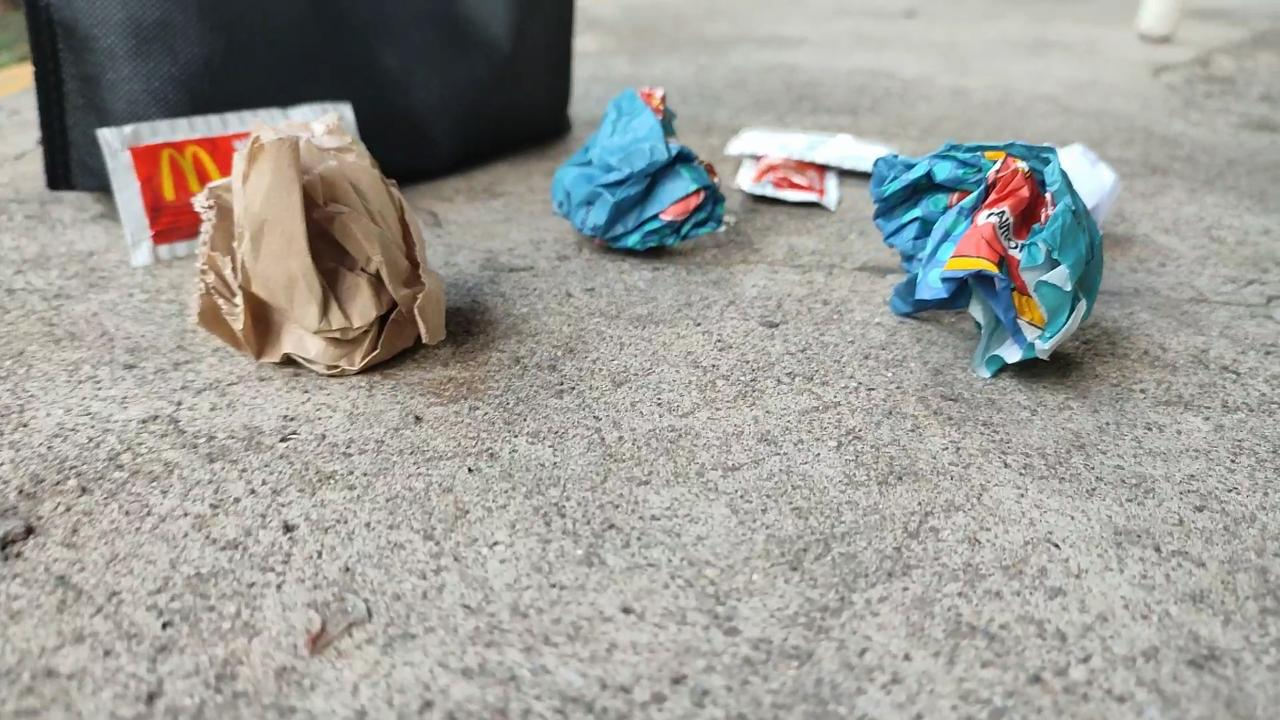Paper: (179, 105, 469, 386), (869, 125, 1109, 404), (537, 39, 733, 288), (1019, 90, 1142, 235)
